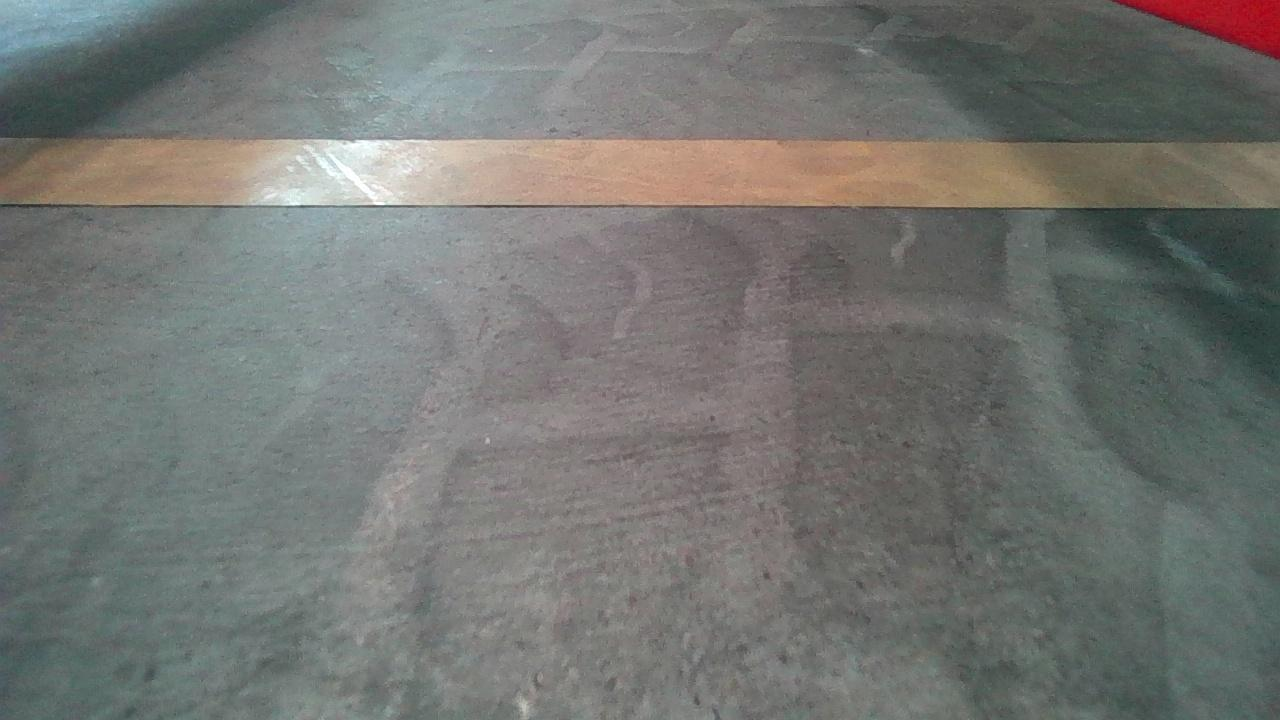yellow_line: (8, 125, 1272, 212)
